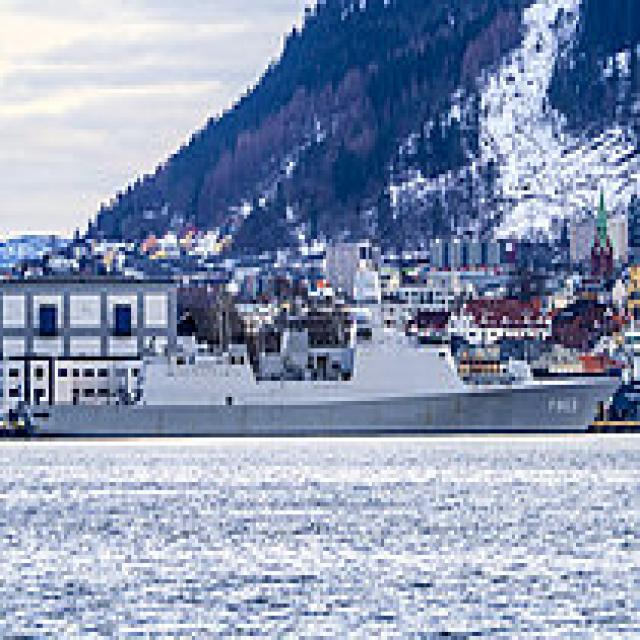Warship: (21, 320, 619, 437)
